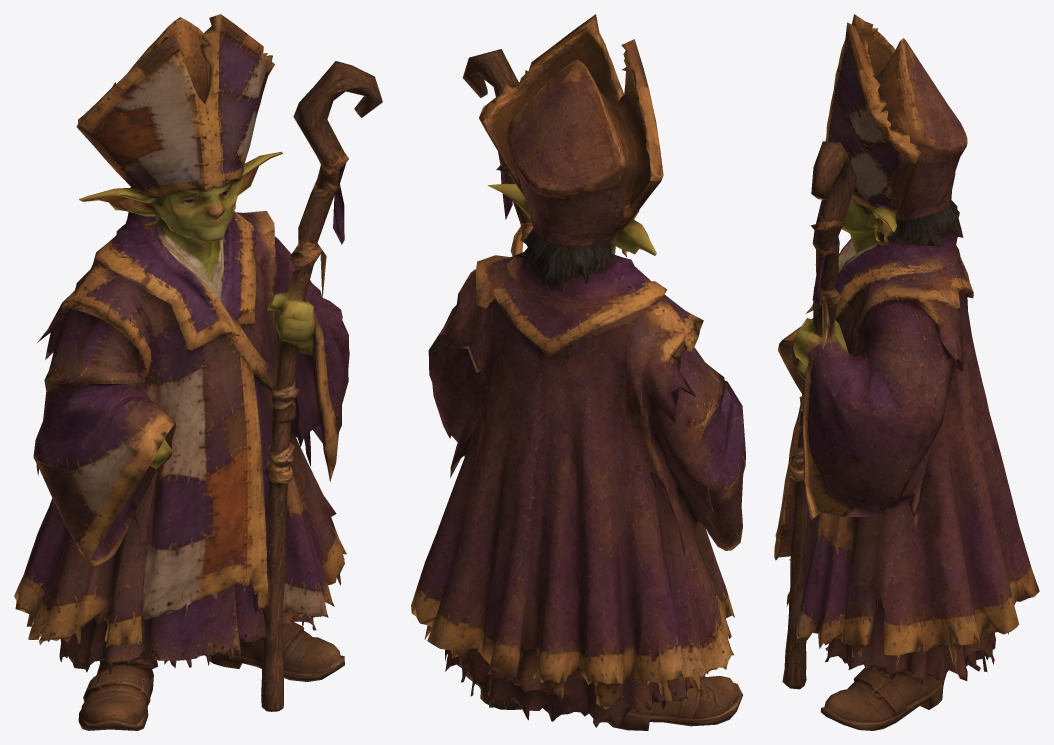
File: original.glb
The picture shows the model from 3 angles, left to right: view 1: azimuth 30°, elevation 25°; view 2: azimuth 150°, elevation 25°; view 3: azimuth 270°, elevation 25°; orthographic projection. The views are drawn at different scales.
Parts seen in each view (by area): view 1: tripo_node_c8e56956-05c4-472d-9595-e0303d128d7f; view 2: tripo_node_c8e56956-05c4-472d-9595-e0303d128d7f; view 3: tripo_node_c8e56956-05c4-472d-9595-e0303d128d7f.
Part boxes in pixels (<box>): tripo_node_c8e56956-05c4-472d-9595-e0303d128d7f: <box>14,14,382,730</box>; tripo_node_c8e56956-05c4-472d-9595-e0303d128d7f: <box>411,14,745,730</box>; tripo_node_c8e56956-05c4-472d-9595-e0303d128d7f: <box>774,14,1039,730</box>.
Bounding box in the file's own units: 0.4739 × 1 × 0.3684.
Materials: 1 (1 with a texture image).
